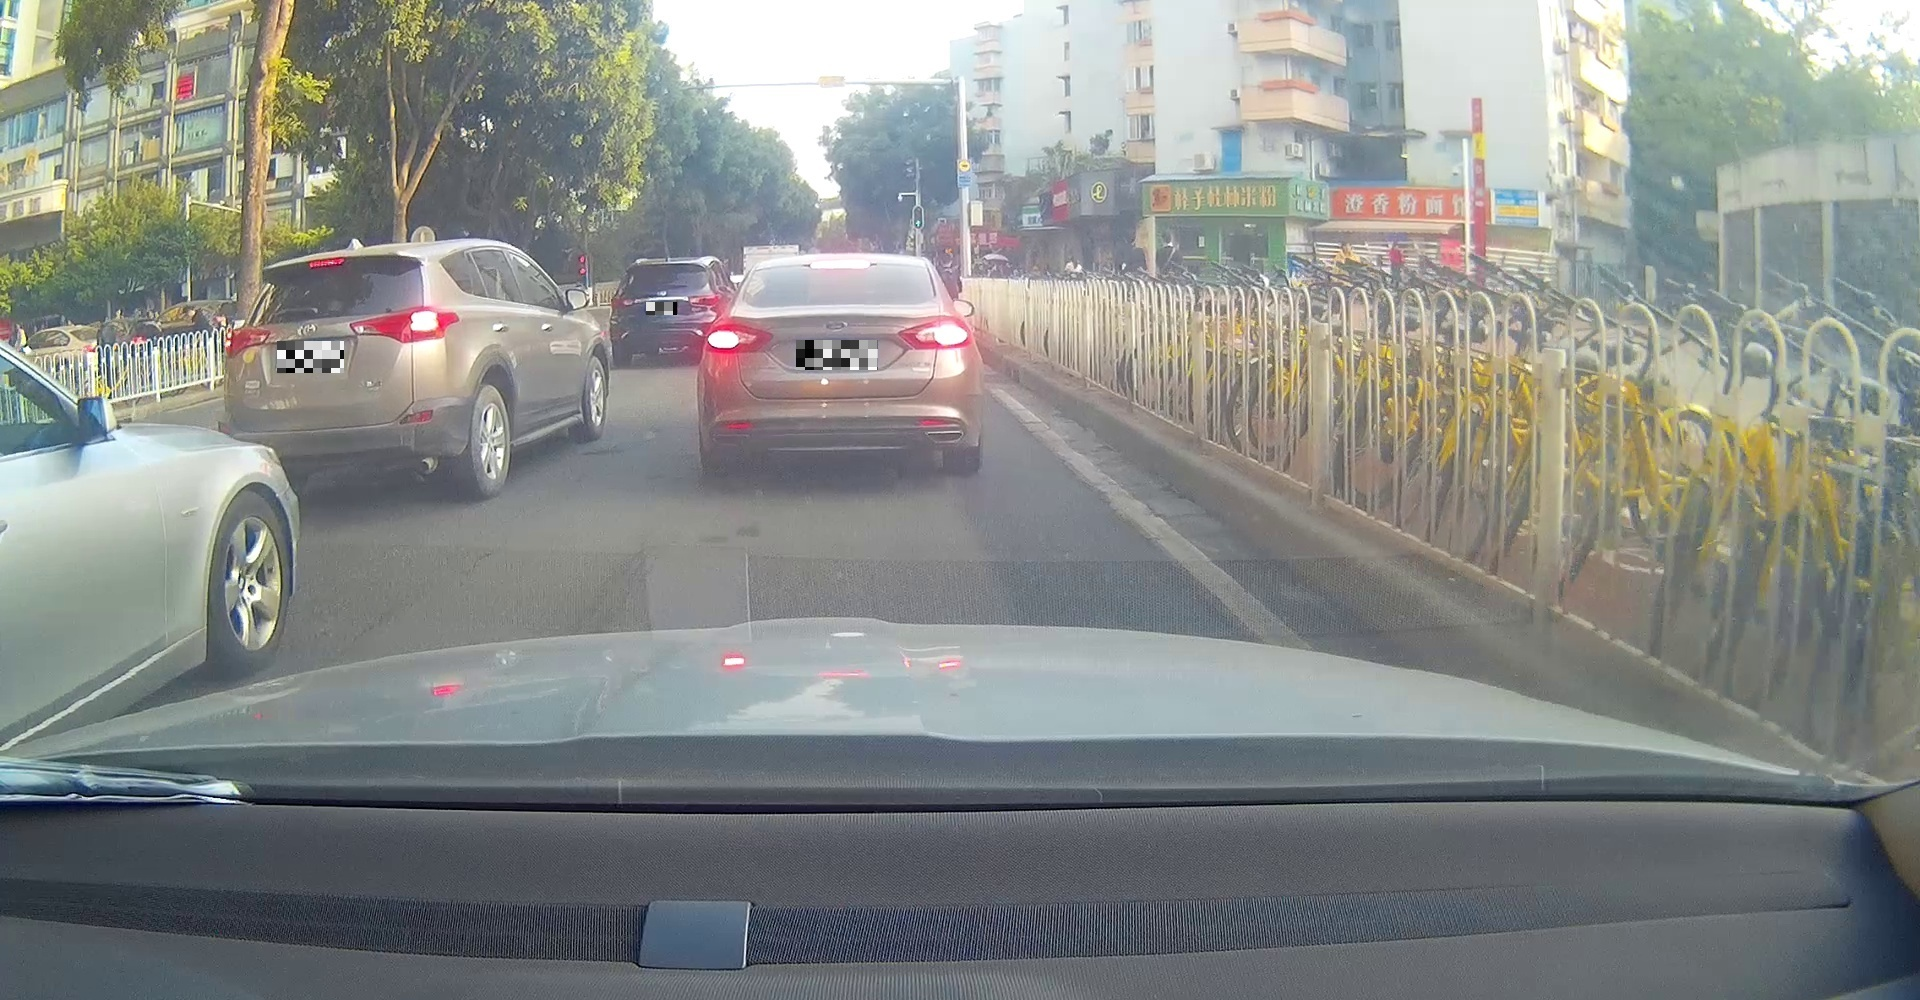L_light: (701, 320, 775, 355), (225, 325, 270, 357)
R_light: (349, 305, 460, 345), (897, 316, 973, 352)
T_light: (810, 258, 871, 272), (309, 258, 345, 269)
day-brake: (690, 244, 980, 473), (223, 239, 460, 499)
plate_1: (277, 341, 344, 373)
plate_2: (796, 340, 877, 371)
plate_3: (646, 302, 677, 315)
